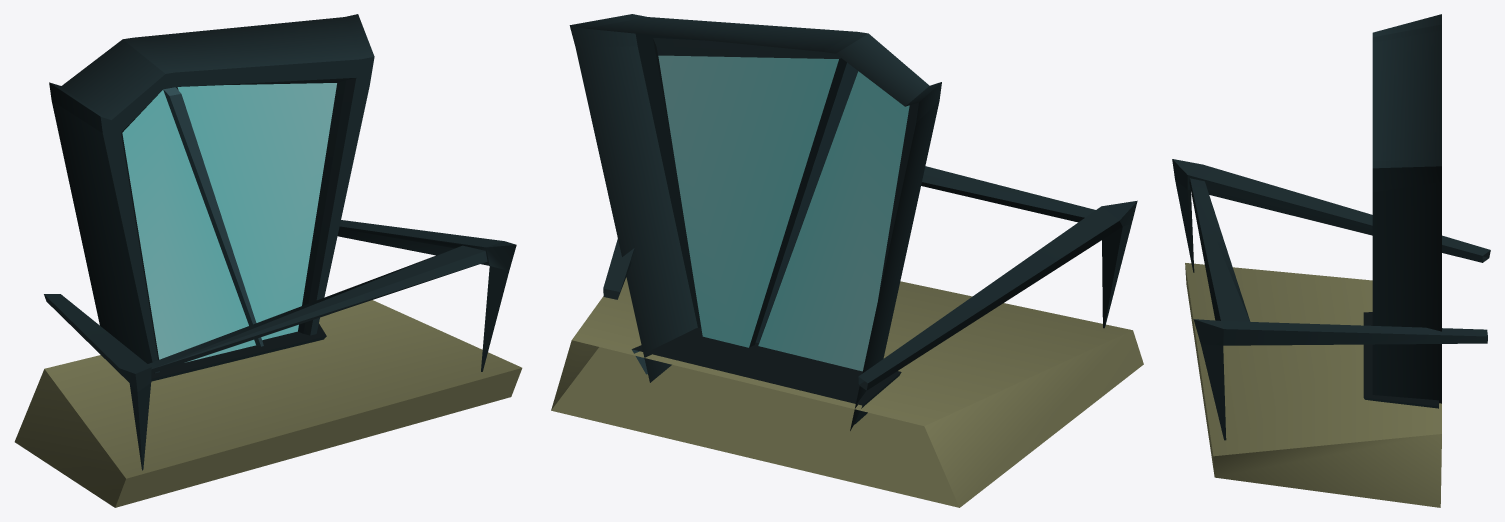
The model's file is c_house_balcony_aa.fbx.
3 views of the same model, side by side, from view 1: azimuth 30°, elevation 25°; view 2: azimuth 150°, elevation 25°; view 3: azimuth 270°, elevation 25° (orthographic). The views are drawn at different scales.
Parts seen in each view (by area): view 1: c_house_balcony_aa; view 2: c_house_balcony_aa; view 3: c_house_balcony_aa.
Boxes of the visible parts, left/top/right/bottom form: c_house_balcony_aa: left=14, top=14, right=522, bottom=507; c_house_balcony_aa: left=551, top=14, right=1143, bottom=507; c_house_balcony_aa: left=1172, top=14, right=1490, bottom=507.
Size of the model in its own units: 3.33 by 2.86 by 2.26.
